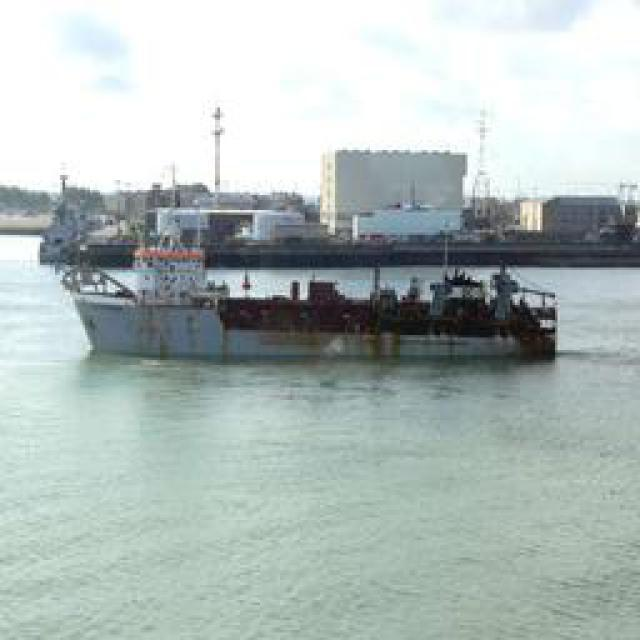Ship: (52, 280, 562, 358)
